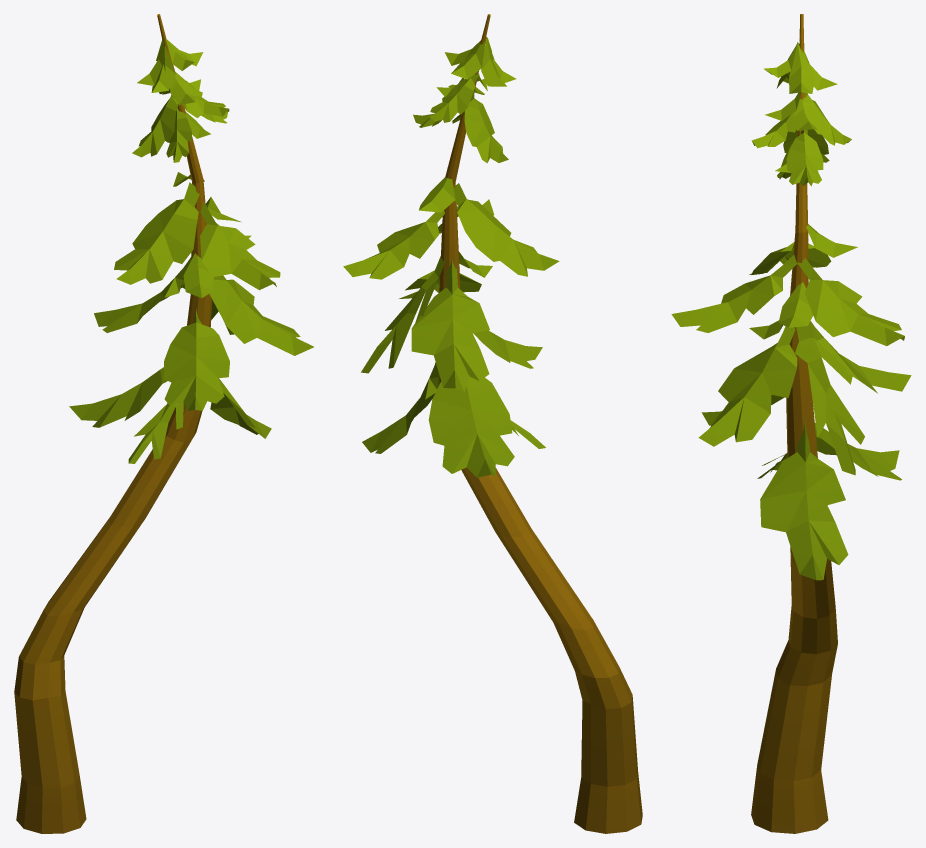
File: Pine model B (1).glb
3 renders of one model, left to right at view 1: azimuth 30°, elevation 25°; view 2: azimuth 150°, elevation 25°; view 3: azimuth 270°, elevation 25°, orthographic. The views are drawn at different scales.
Parts seen in each view (by area): view 1: SM_FreeTree_07_Free_Tree_M_0; view 2: SM_FreeTree_07_Free_Tree_M_0; view 3: SM_FreeTree_07_Free_Tree_M_0.
Boxes of the visible parts, x1,y1,x2,y2 form: SM_FreeTree_07_Free_Tree_M_0: (14,14,313,833); SM_FreeTree_07_Free_Tree_M_0: (343,14,642,833); SM_FreeTree_07_Free_Tree_M_0: (671,14,911,833).
Bounding box in the file's own units: 2.88 × 8.11 × 2.04.
Materials: 1 (1 with a texture image).
